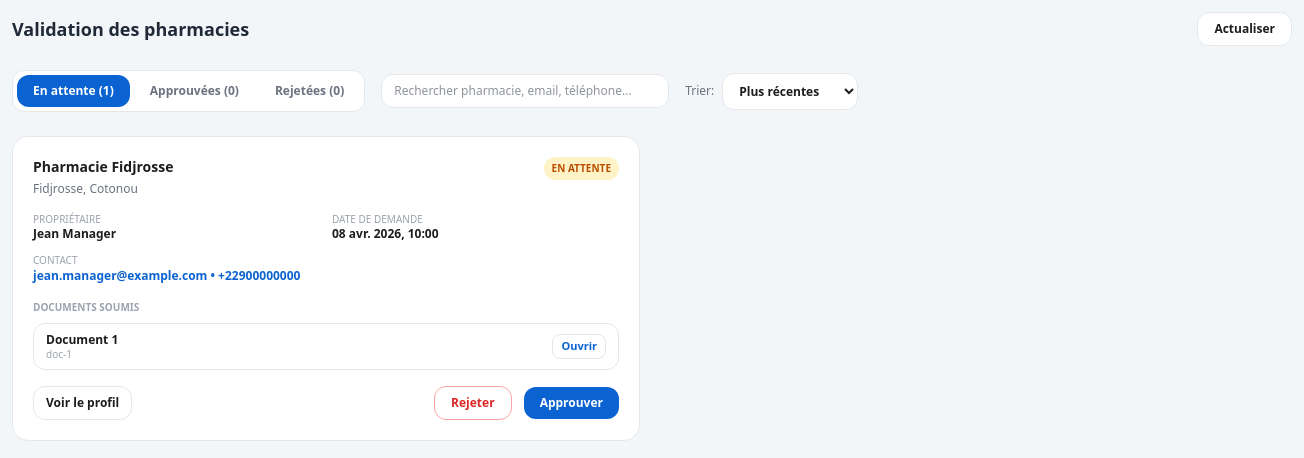
Test: Admin flow integration › approves a pending pharmacy from validation queue
Expected: the text "Pharmacie Fidjrosse" is shown, [33,157,173,177]
Click the button "Approuver" at (571, 403), box [524,387,619,419]
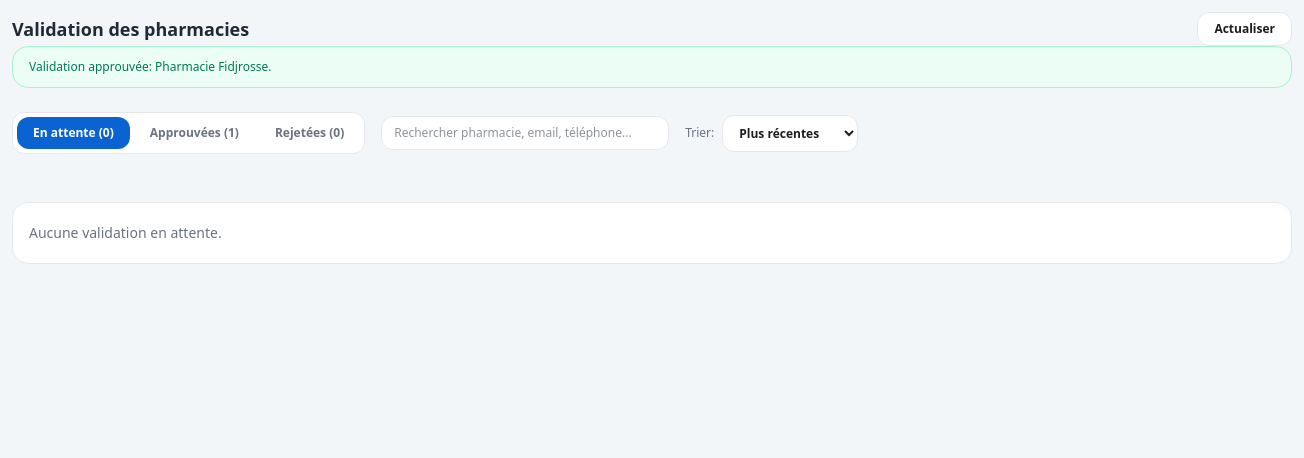
Result: the text "Validation approuvée: Pharmacie Fidjrosse." is shown at [12,46,1292,88]
Result: the text "Aucune validation en attente." is shown at [12,202,1292,264]
